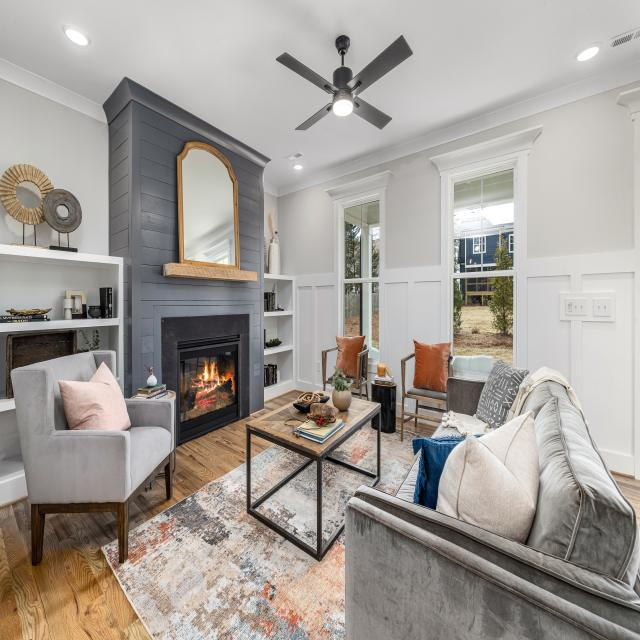floor: (128, 389, 305, 533), (0, 494, 153, 640), (403, 420, 439, 438), (396, 417, 401, 430), (404, 418, 406, 420)
wall: (277, 81, 640, 480), (129, 100, 264, 448), (0, 79, 109, 256), (147, 142, 257, 282), (108, 100, 132, 399), (0, 260, 109, 321), (264, 191, 278, 274), (0, 409, 22, 460), (0, 198, 23, 245), (15, 181, 42, 209), (35, 220, 59, 249), (277, 349, 293, 380), (277, 280, 293, 311), (277, 315, 293, 345), (264, 316, 277, 343), (264, 281, 277, 305), (417, 408, 444, 419), (418, 400, 446, 410), (24, 224, 35, 246), (404, 398, 416, 414), (264, 353, 277, 365), (57, 206, 69, 217), (60, 232, 68, 247)
